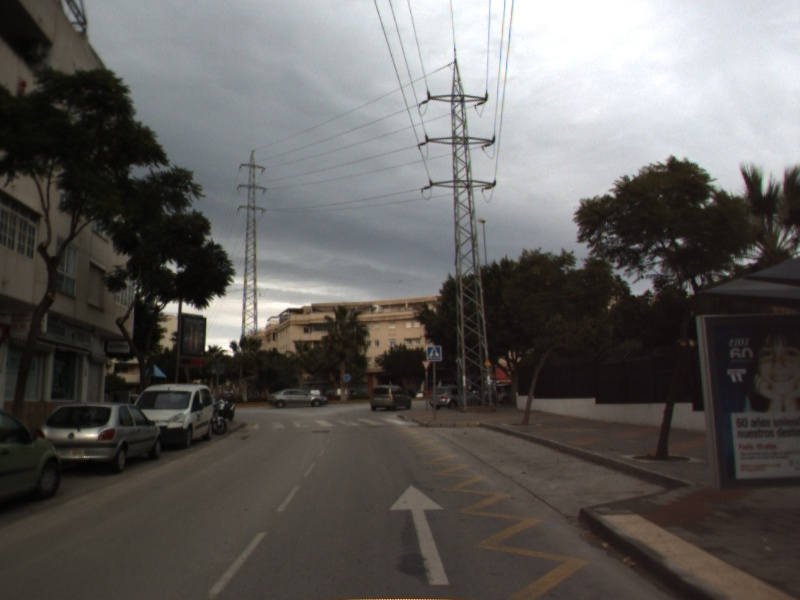STRAIGHT: (386, 481, 452, 588)
